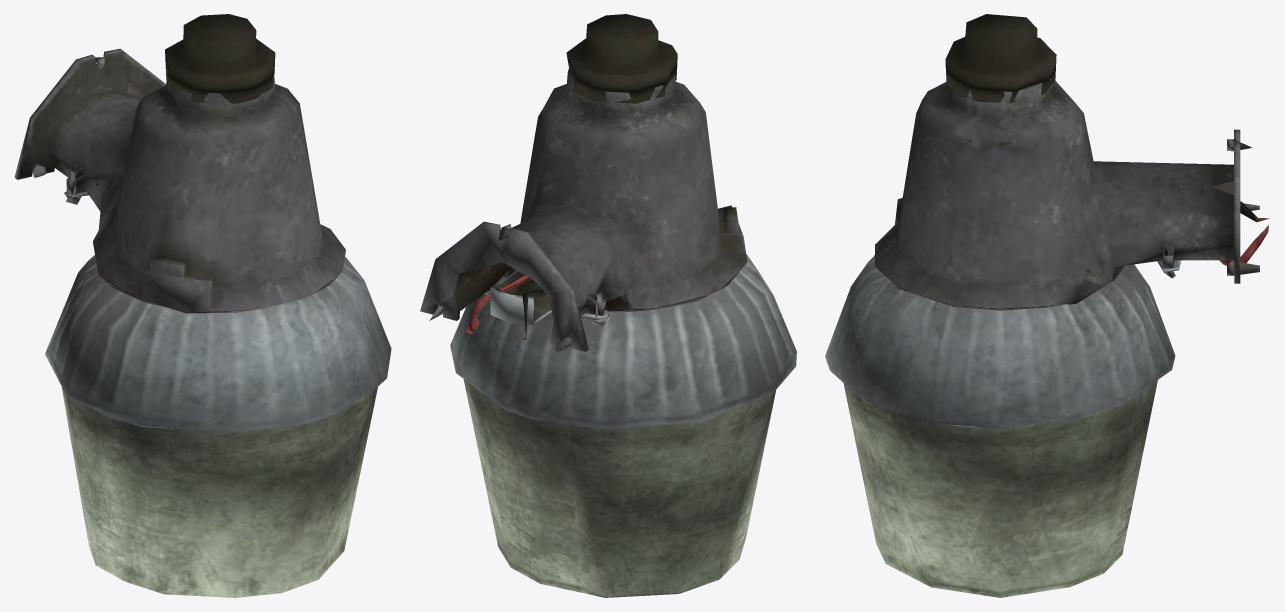
Rendered from security_light.glb.
3 views of the same model, side by side, from view 1: azimuth 30°, elevation 25°; view 2: azimuth 150°, elevation 25°; view 3: azimuth 270°, elevation 25° (orthographic).
Parts seen in each view (by area): view 1: security_light, security_light_glass; view 2: security_light, security_light_glass; view 3: security_light, security_light_glass.
Part boxes in pixels (x1,y1,x2,y2): security_light: (14,14,391,432); security_light_glass: (61,387,377,597); security_light: (420,14,796,428); security_light_glass: (463,379,775,597); security_light: (825,14,1269,427); security_light_glass: (843,380,1157,597).
Size of the model in its own units: 0.3232 by 0.5305 by 0.4146.
2 materials, 2 textured.
